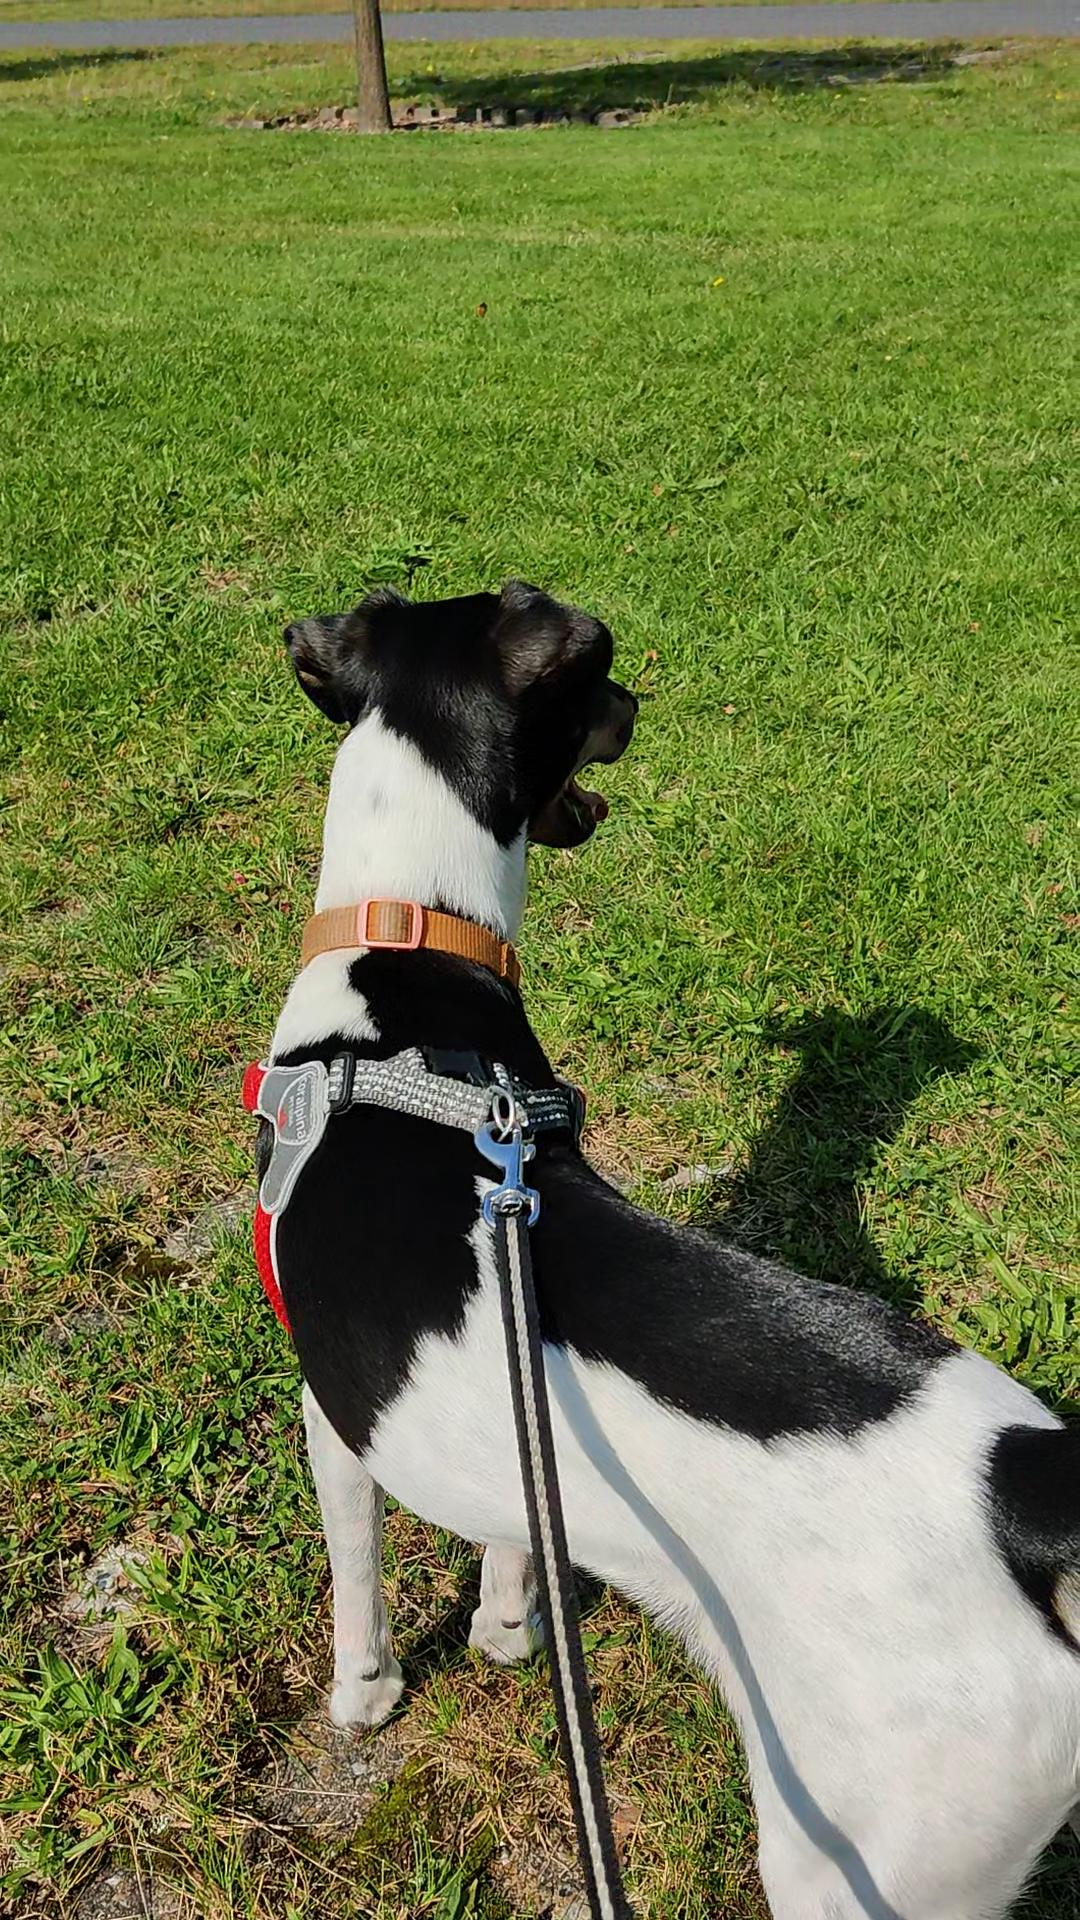Dog: (233, 571, 1079, 1919)
